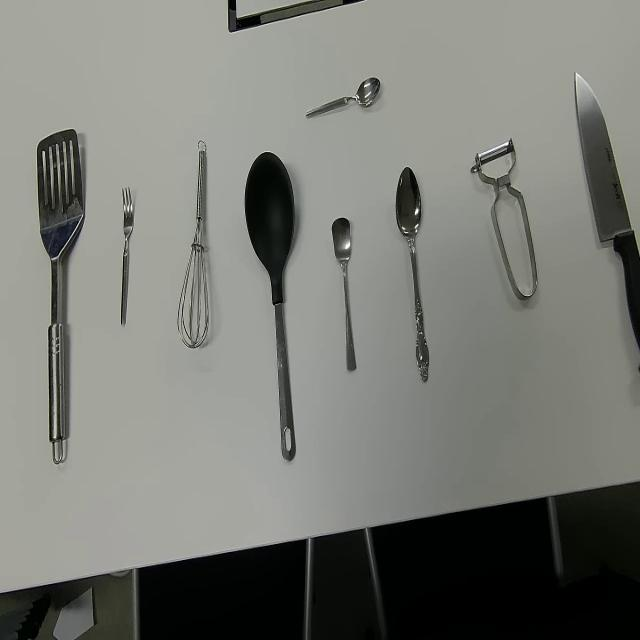Desert-Spoon: (395, 166, 431, 384)
Dinner-Fork: (120, 186, 135, 329)
Kitchen-Knife: (574, 70, 640, 352)
Peeler: (469, 137, 538, 300)
Serving-Spoon: (244, 151, 297, 464), (36, 126, 84, 465)
Tea-Spoon: (330, 215, 358, 374), (305, 74, 382, 120)
Whisk: (177, 138, 210, 350)
